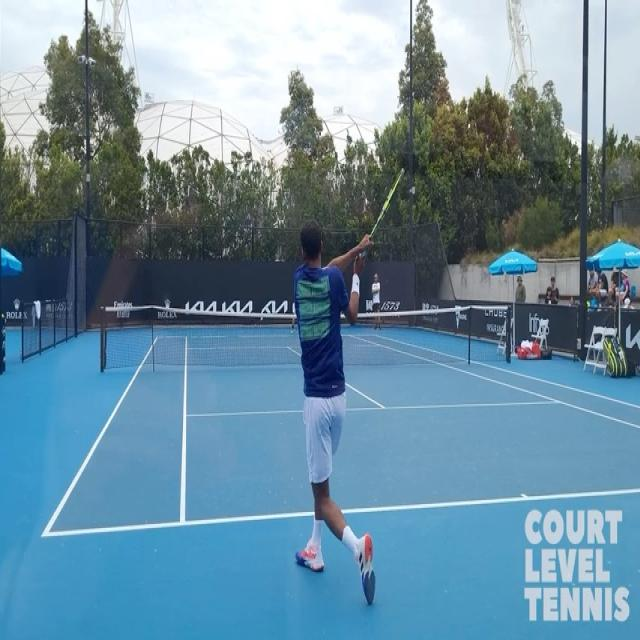backhand-finish: (258, 166, 408, 629)
